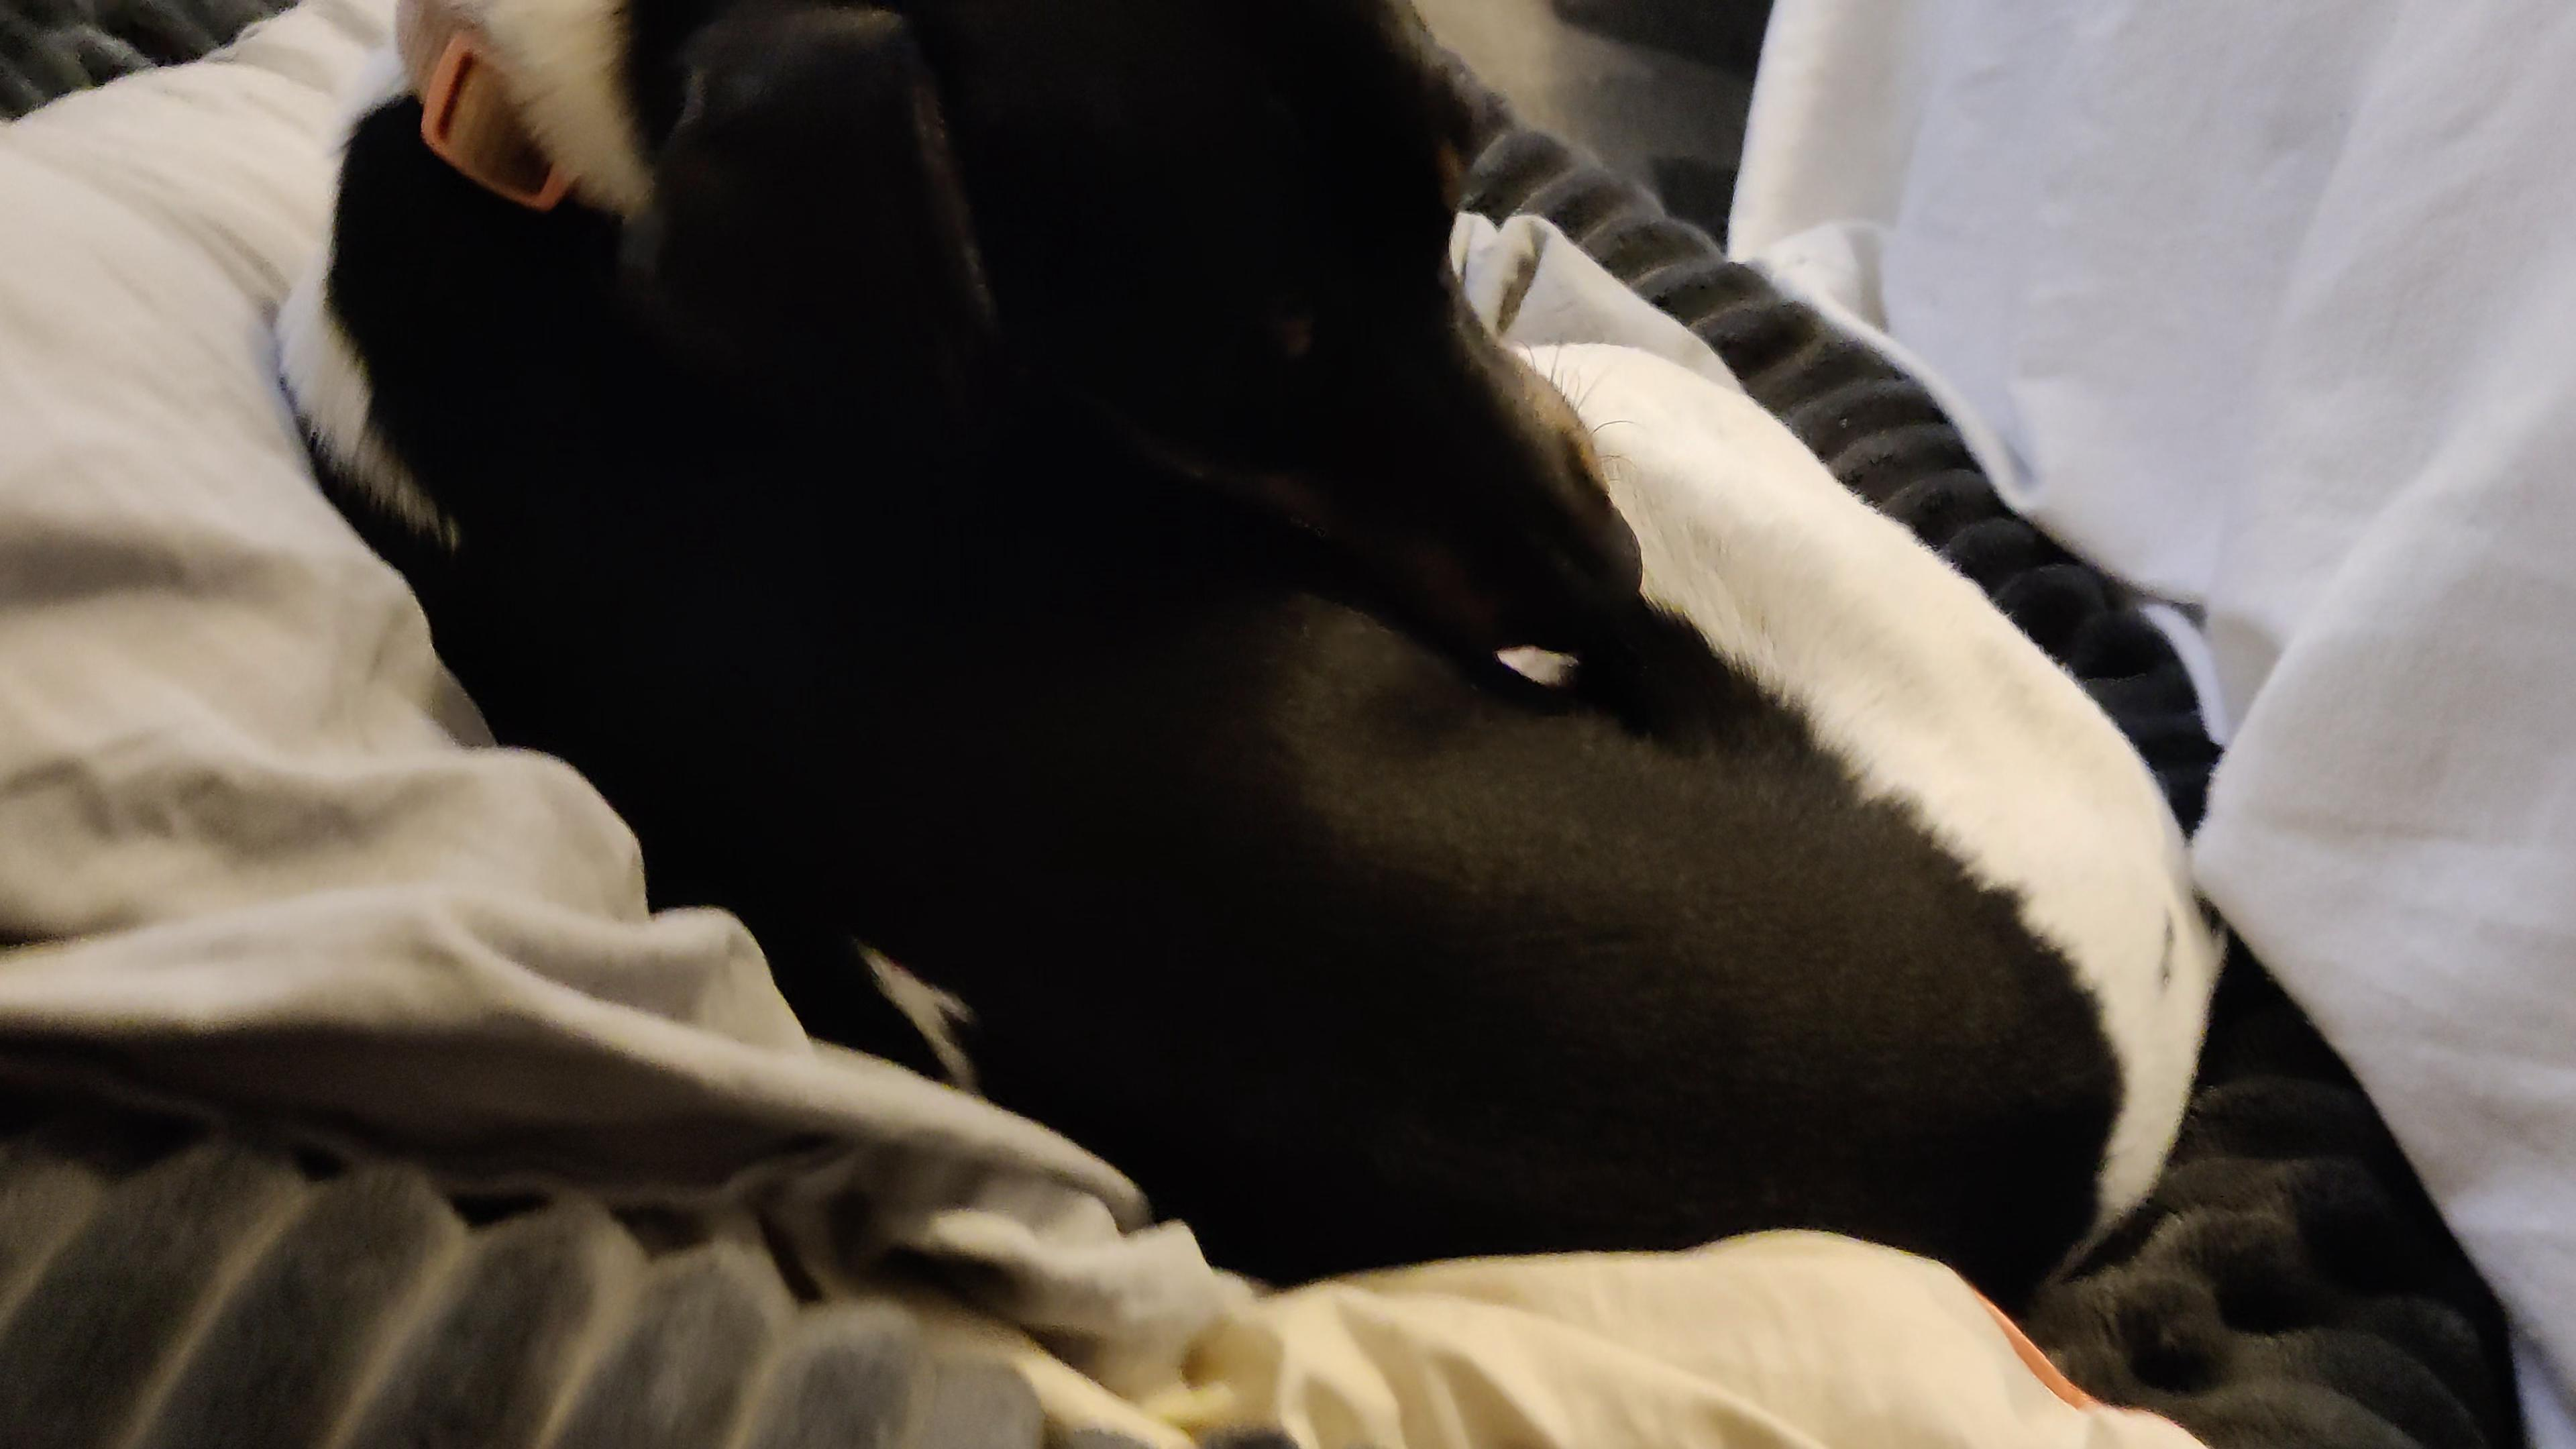Dog: (232, 0, 2298, 1300)
